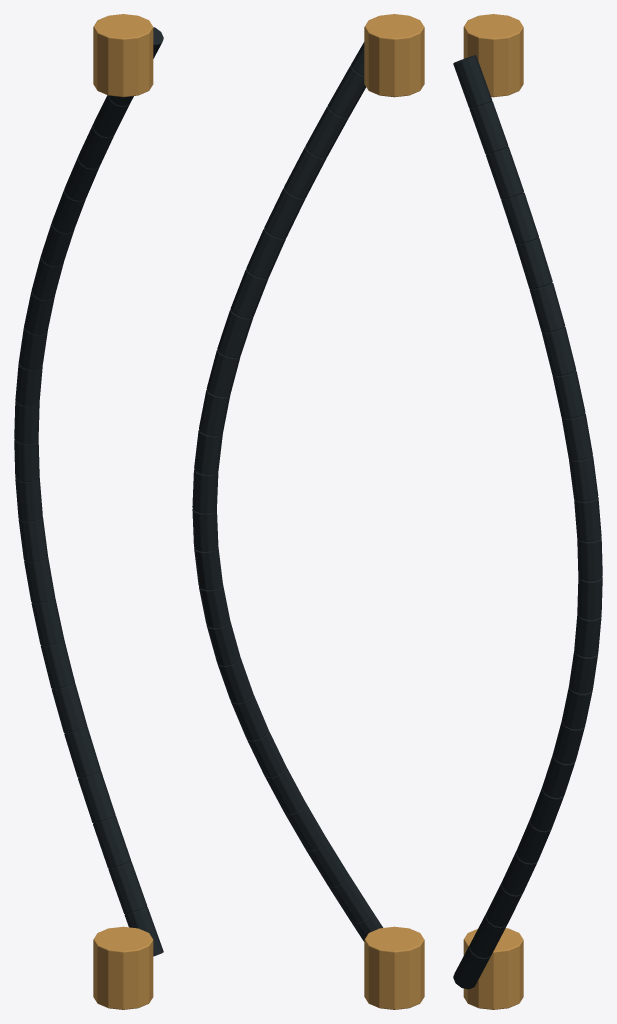
File: SM_Lab_ReactorHarness__Cable_1_A.fbx
3 renders of one model, left to right at view 1: azimuth 90°, elevation 25°; view 2: azimuth 150°, elevation 25°; view 3: azimuth 270°, elevation 25°, orthographic.
Parts seen in each view (by area): view 1: SM_Lab_ReactorHarness__Cable_1_A; view 2: SM_Lab_ReactorHarness__Cable_1_A; view 3: SM_Lab_ReactorHarness__Cable_1_A.
Boxes of the visible parts, box(x1,y1,x2,y2) form: SM_Lab_ReactorHarness__Cable_1_A: box(14, 14, 163, 1009); SM_Lab_ReactorHarness__Cable_1_A: box(192, 14, 424, 1009); SM_Lab_ReactorHarness__Cable_1_A: box(453, 14, 602, 1009).
Size of the model in its own units: 44.45 by 32.37 by 232.
